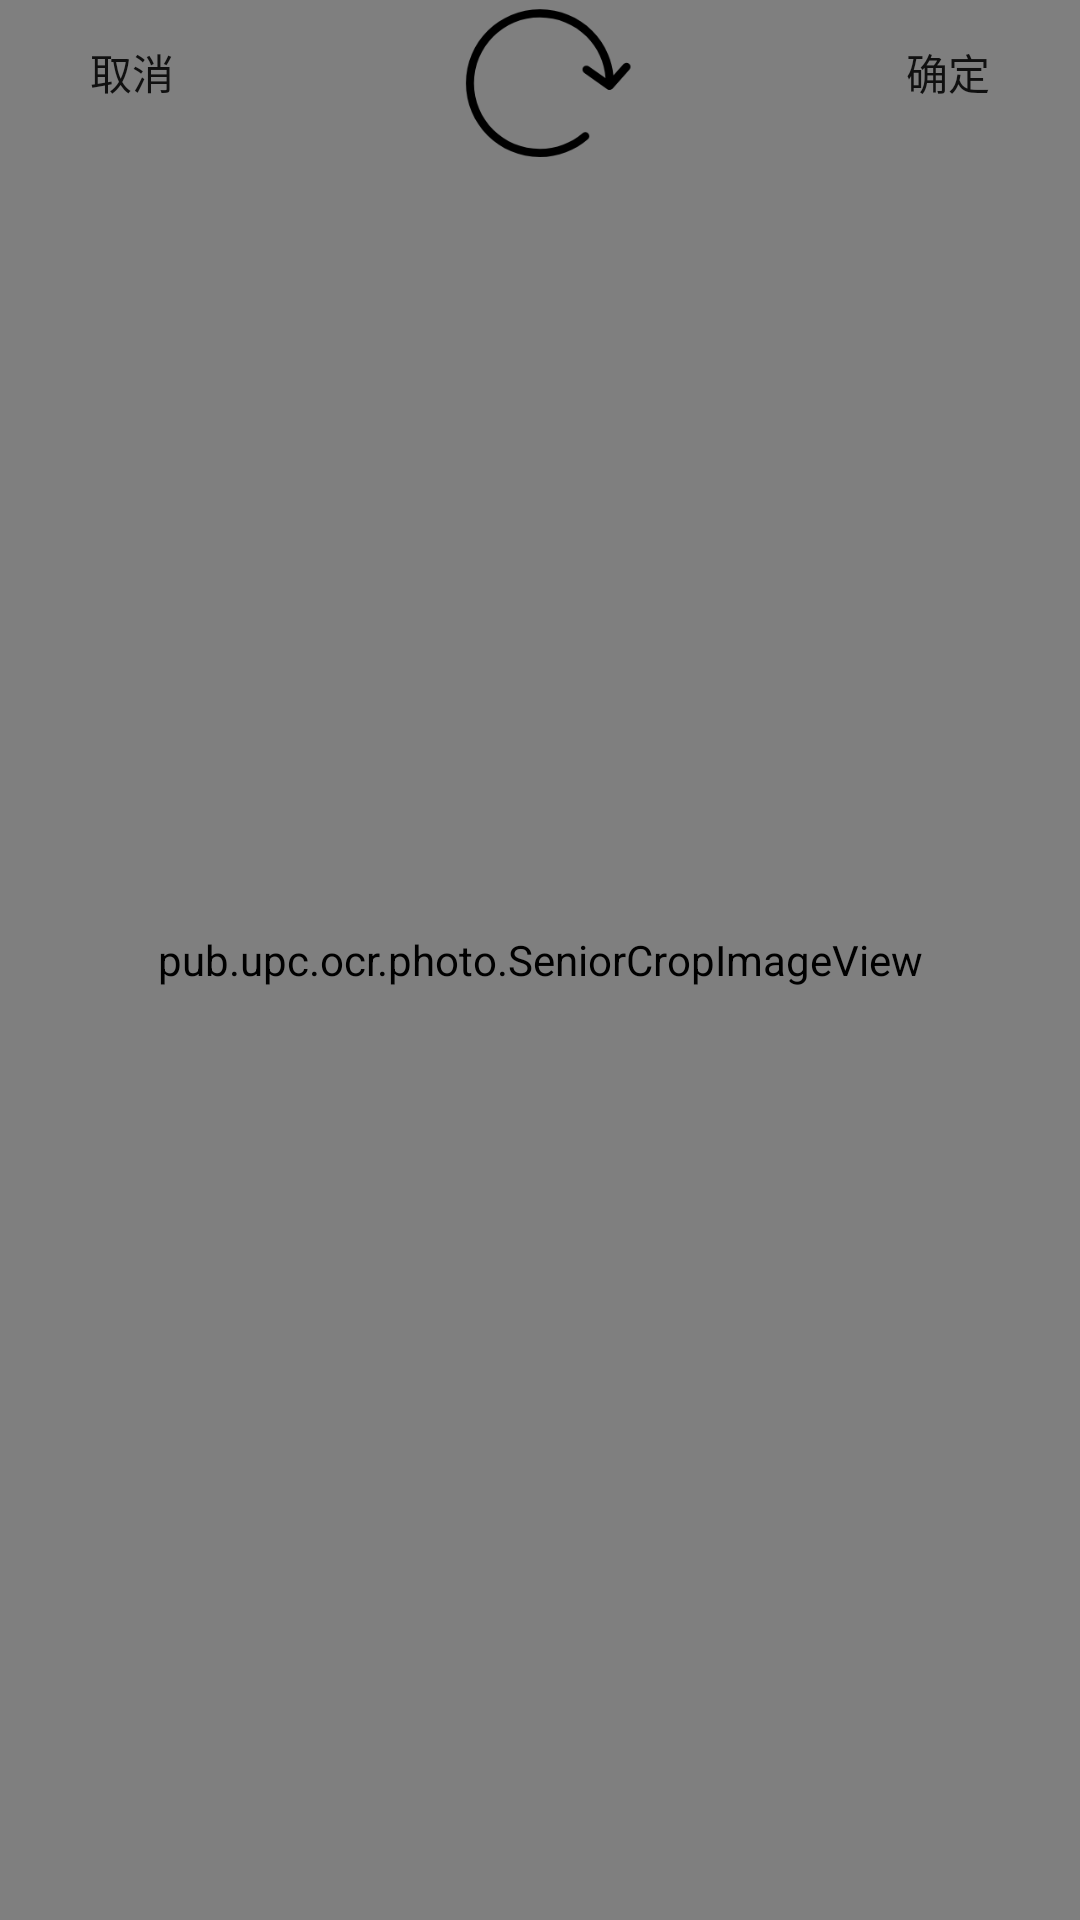

Icon click points for this 1080 × 1920 phone screenshot, format point (x, y):
refresh: point (548, 83)
